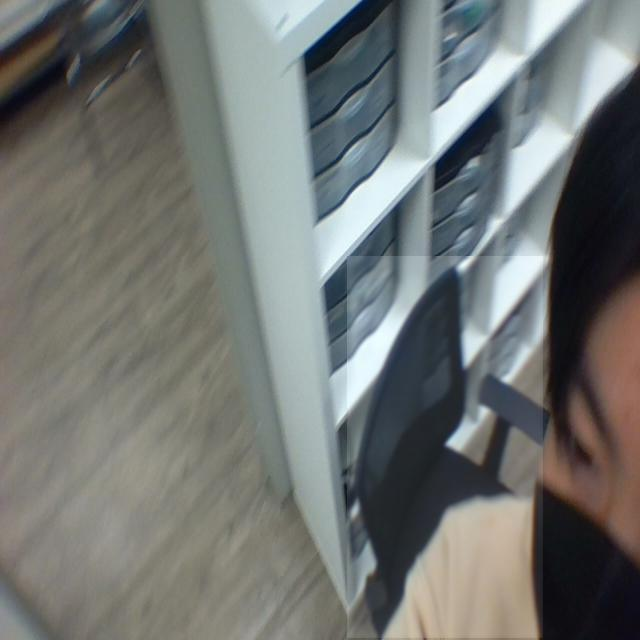chair: (348, 256, 544, 640)
